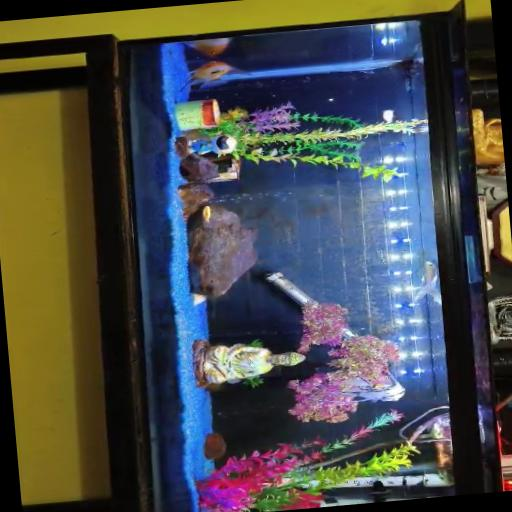Fish: (319, 374, 404, 402), (179, 61, 246, 91), (414, 261, 440, 303), (184, 38, 230, 57), (201, 206, 210, 221)
